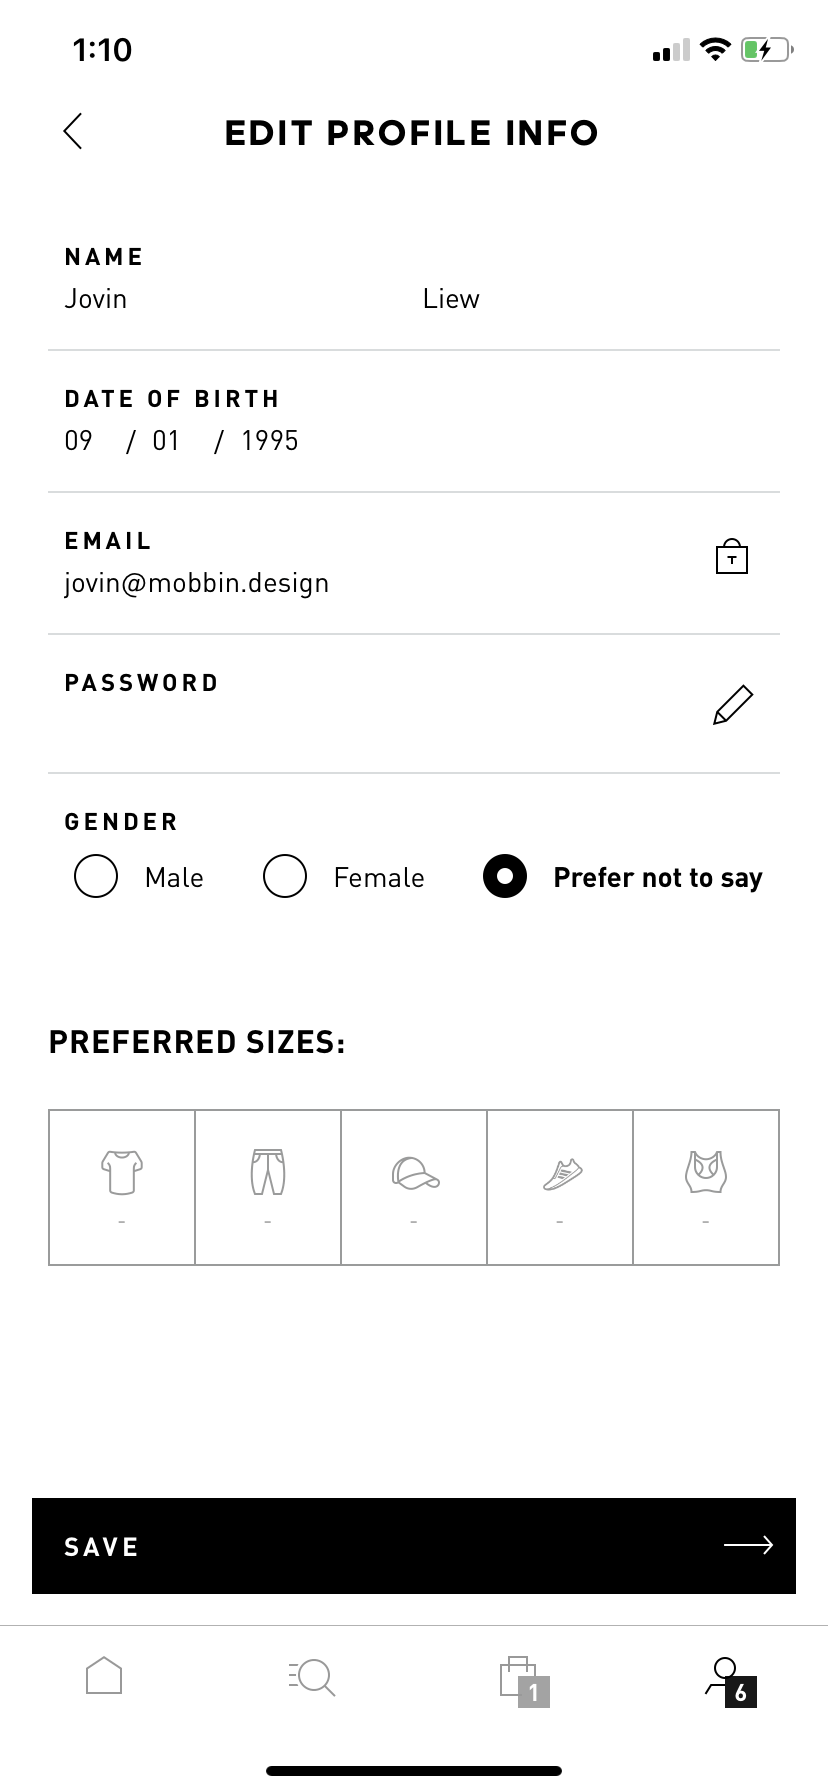Buttons: (24, 1482, 805, 1602), (30, 85, 117, 173), (698, 666, 777, 737), (694, 517, 766, 589)
Radio buttons: (465, 837, 771, 909), (257, 841, 433, 907), (58, 843, 228, 909)
Text Fields: (51, 642, 698, 795), (51, 515, 688, 633), (34, 230, 382, 362)
